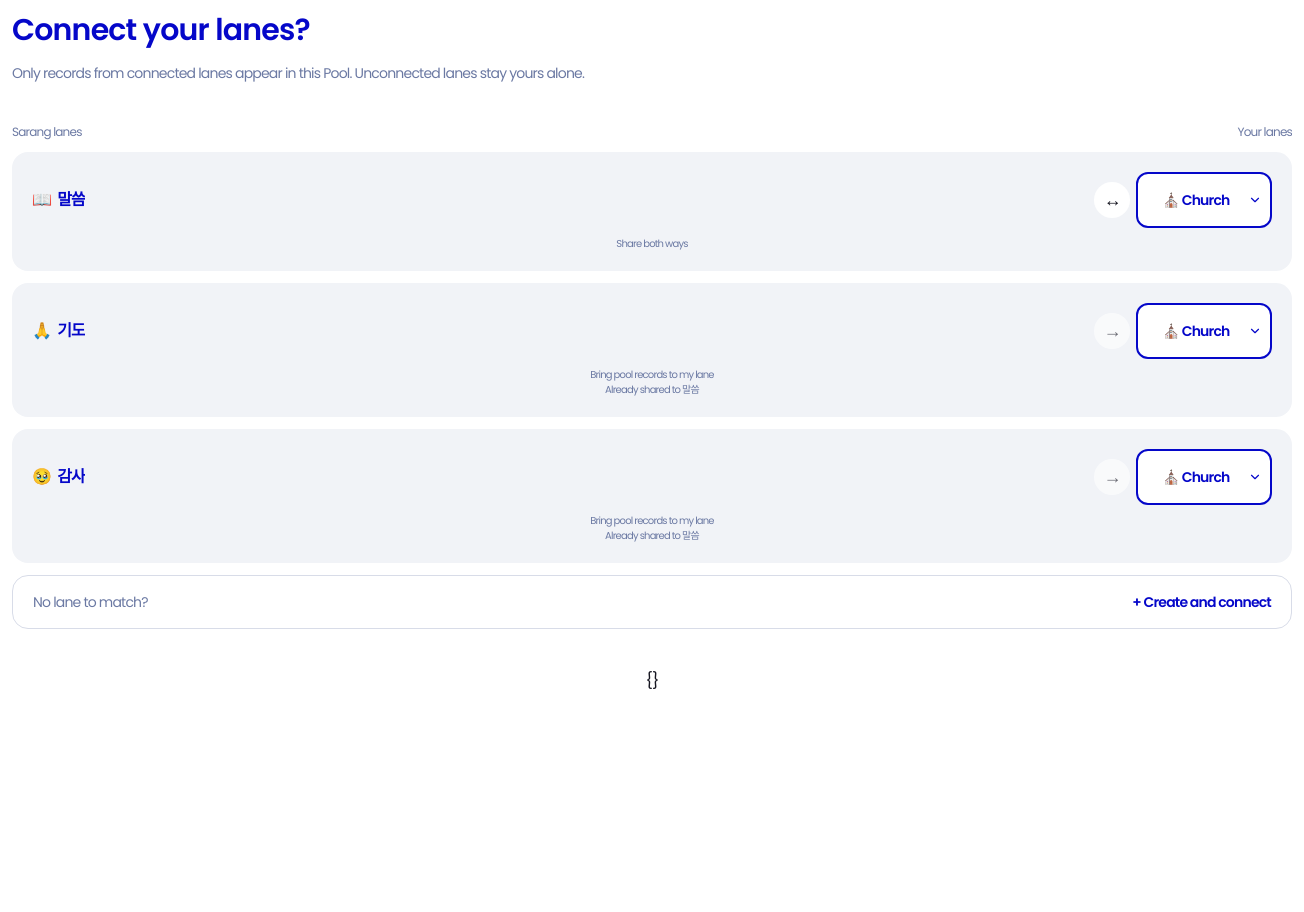
Scenario: one sender per lane of mine (review) › unlocks the next row once the first stops sending, without sharing for you
// ↔ → ← → →: the first row now only brings in.
Click the button "↔" at (1112, 200), box 1094,182 -> 1130,218
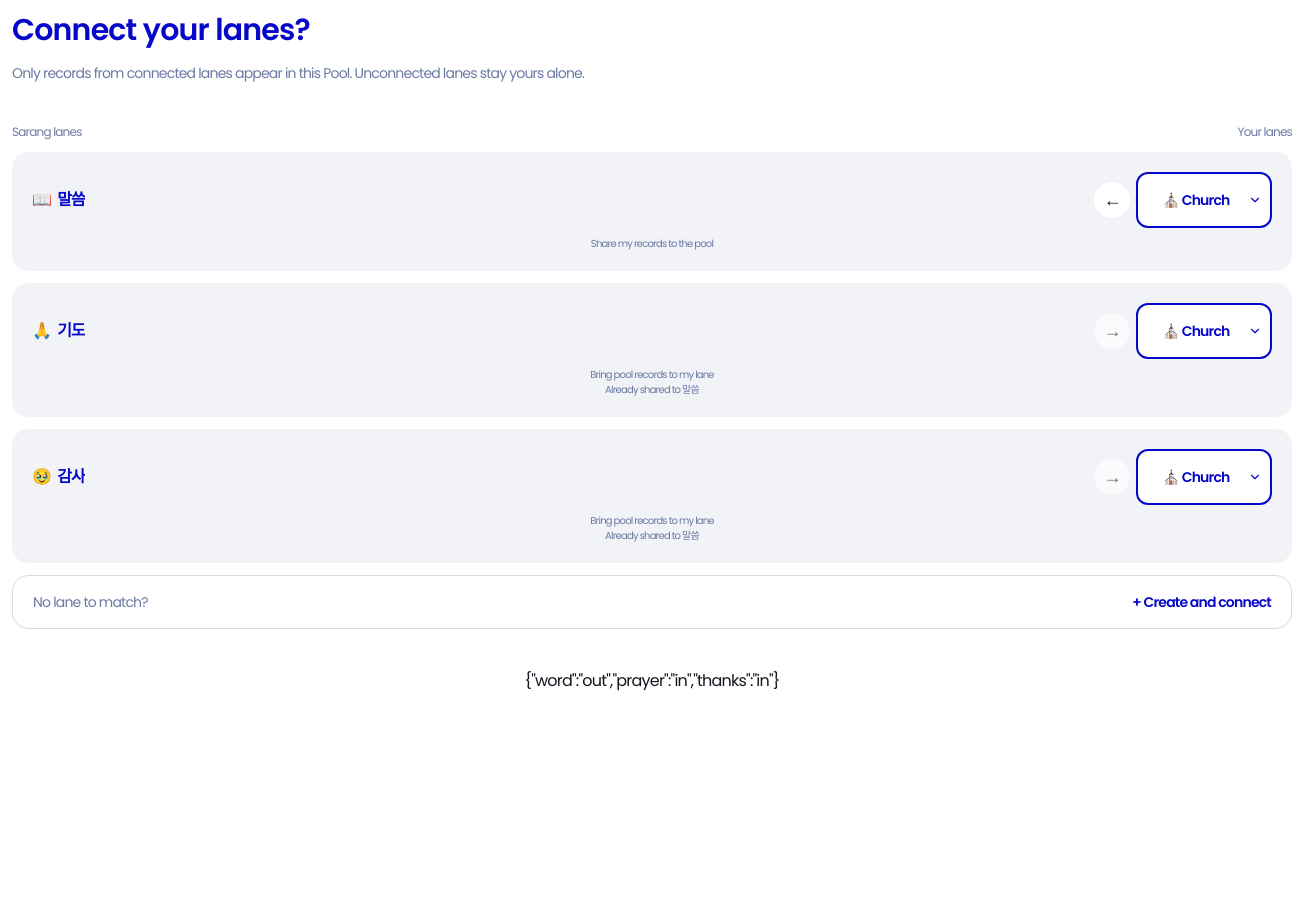
Click the button "←" at (1112, 200), box 1094,182 -> 1130,218
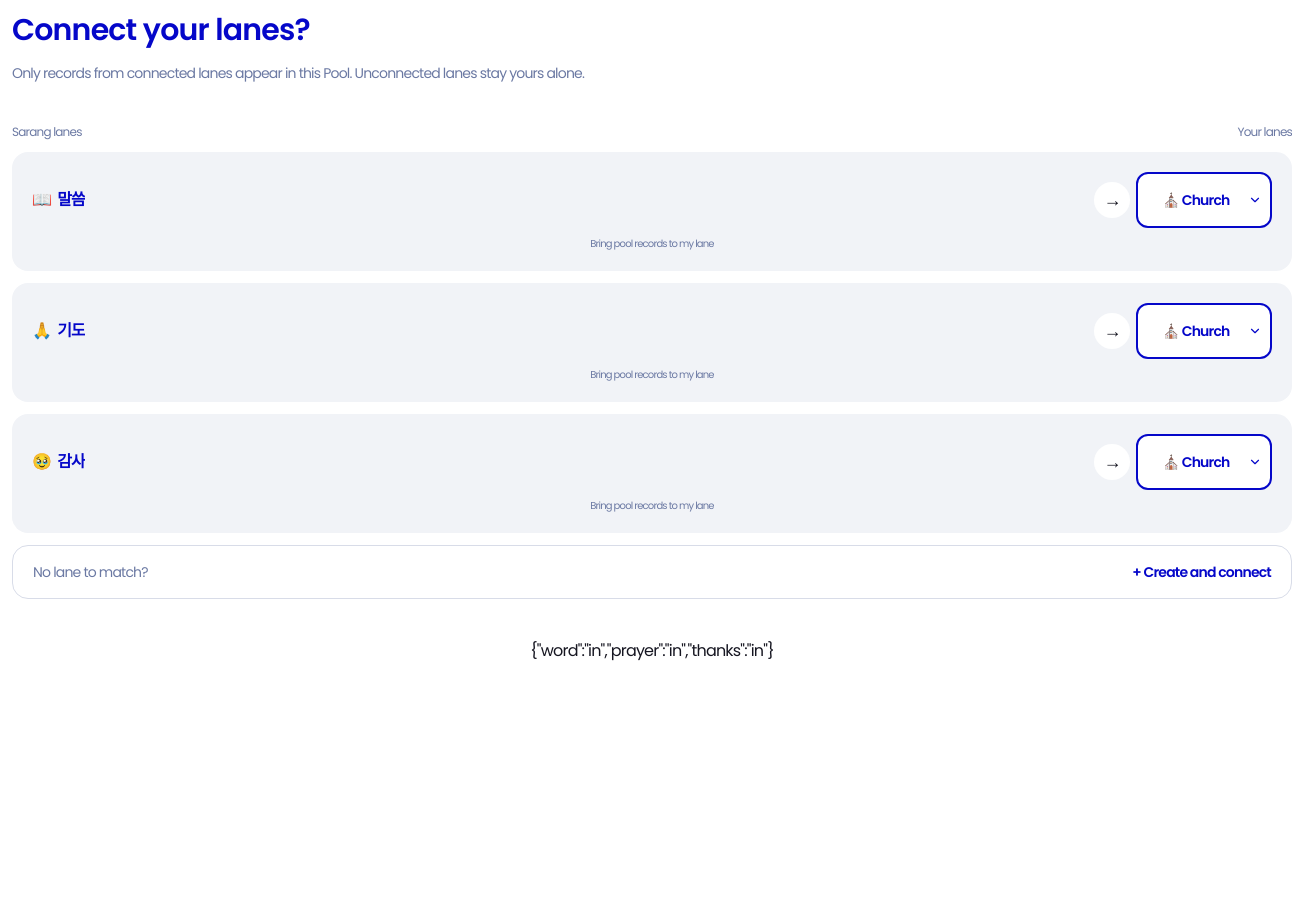
Click the button "→" in the row of "기도" at (1112, 331), box 1094,313 -> 1130,349
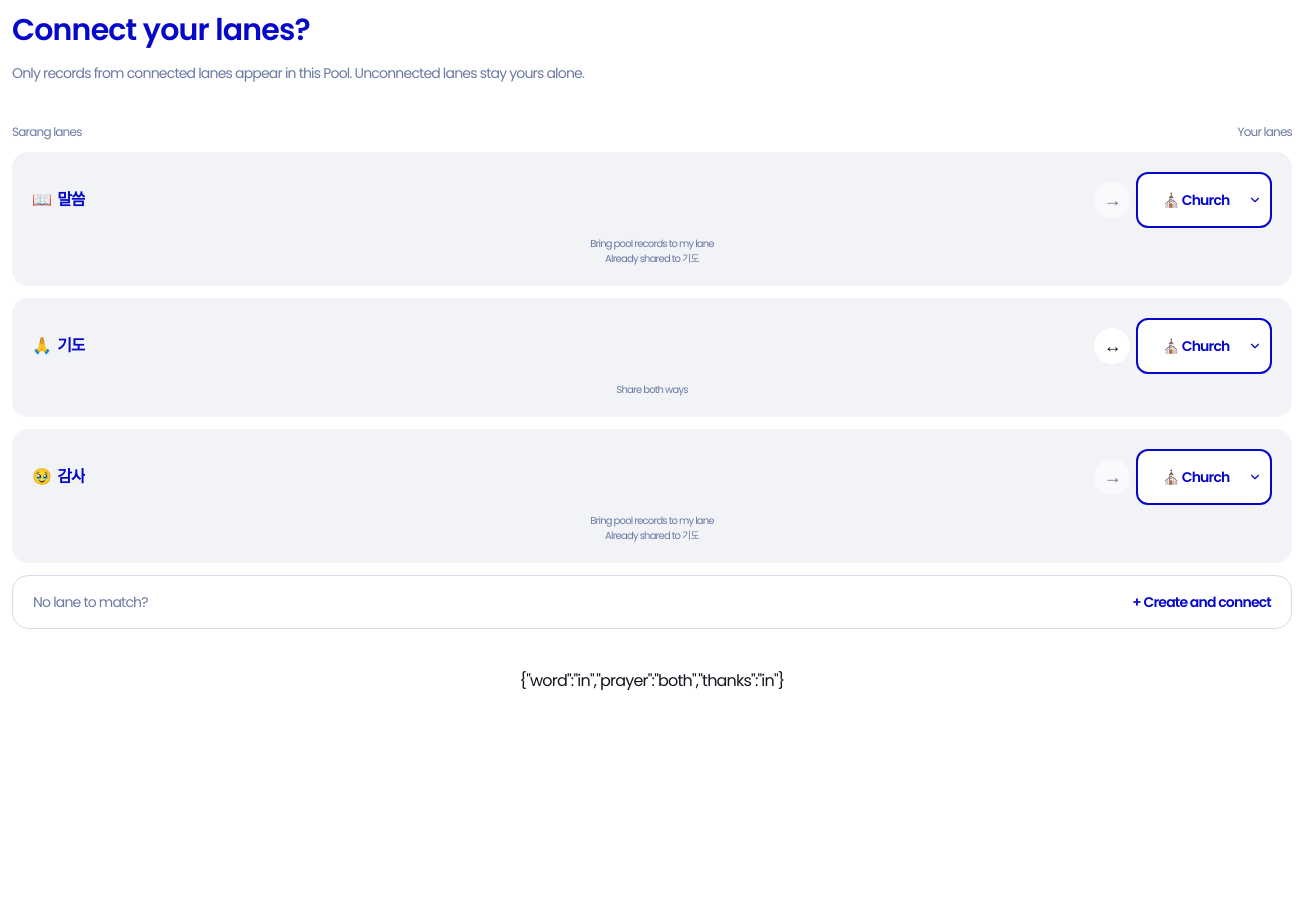
Expected: the button "↔" is shown, 1094,328 -> 1130,364
Expected: the element showing "Bring pool records to my lane Already shared to 기도" below "감사" is shown, 590,513 -> 714,543
